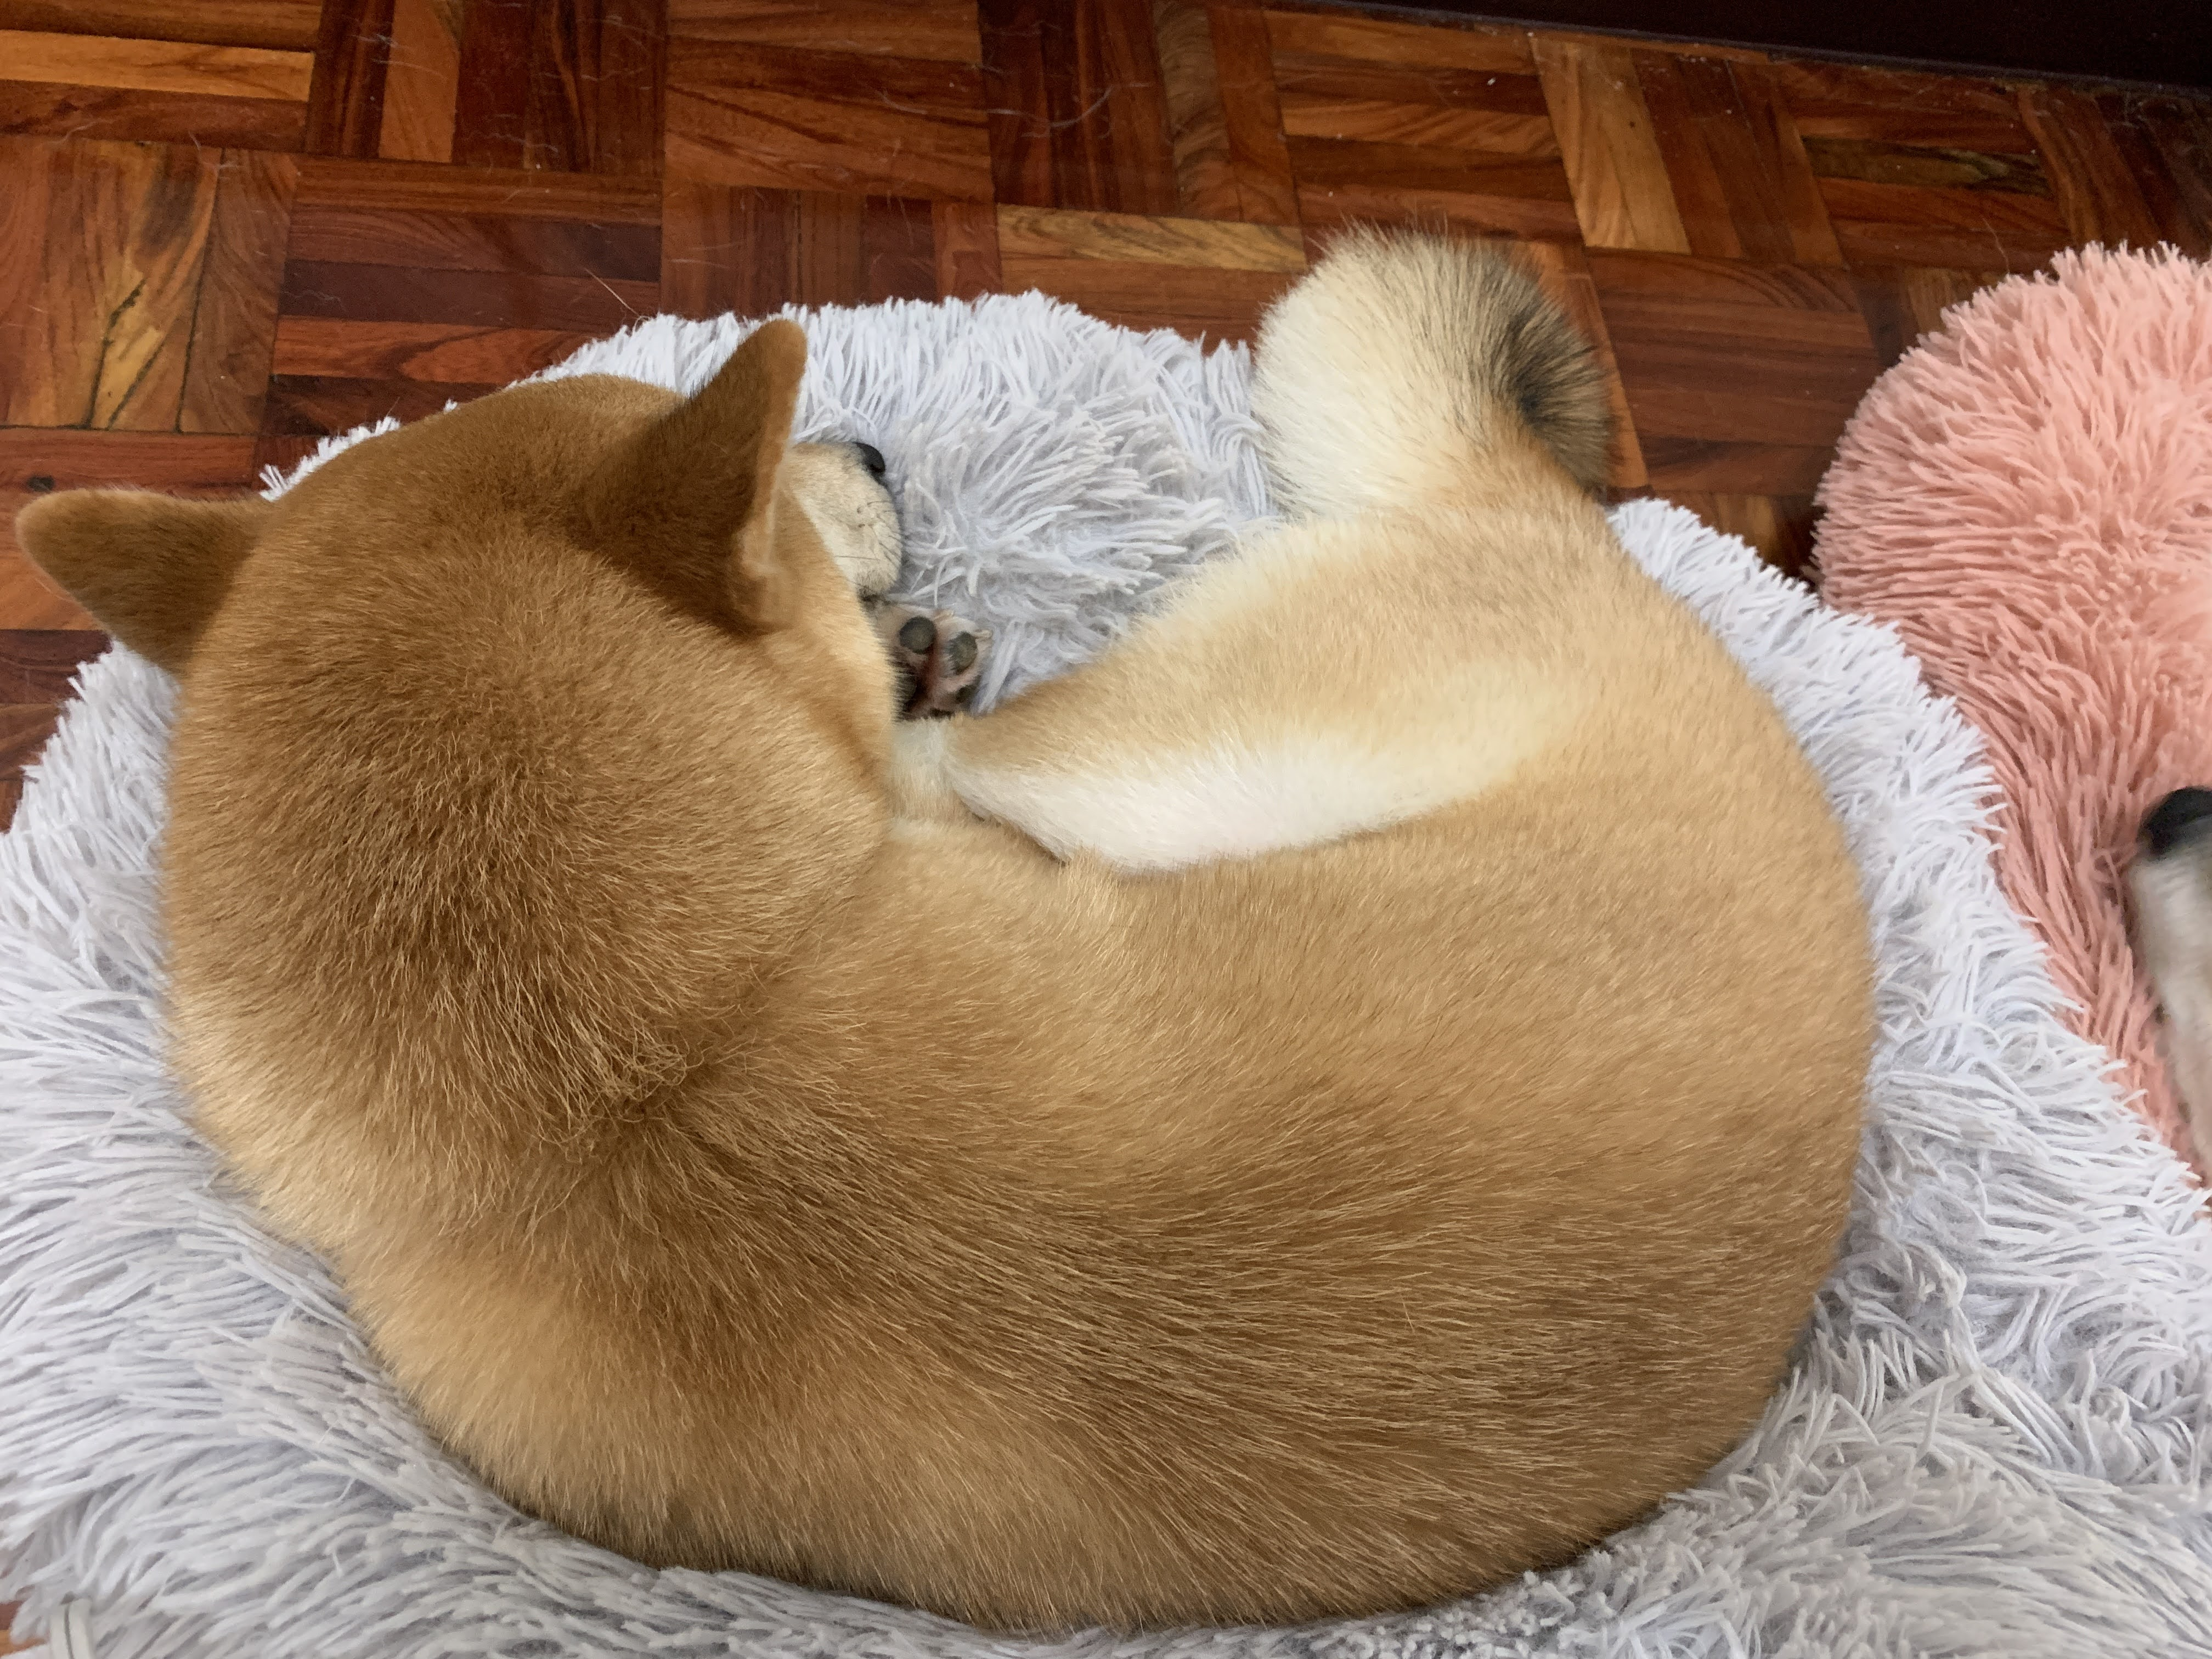Get down: (16, 293, 1998, 1624)
